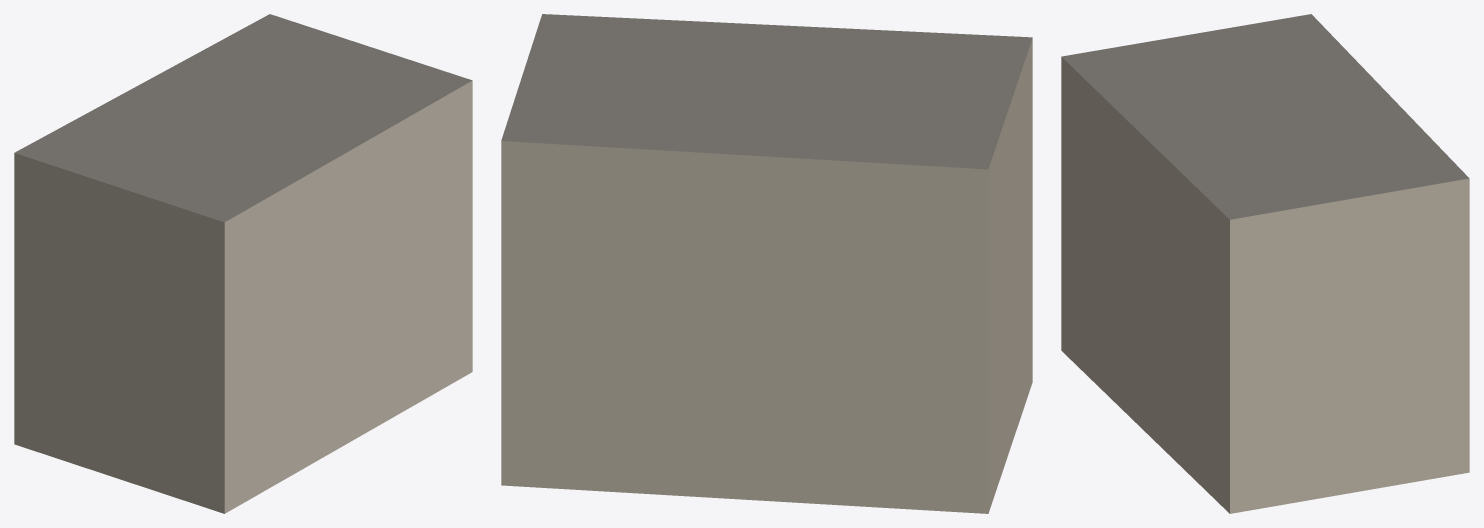
The picture shows the model from 3 angles, left to right: view 1: azimuth 30°, elevation 25°; view 2: azimuth 150°, elevation 25°; view 3: azimuth 270°, elevation 25°; orthographic projection. The views are drawn at different scales.
Parts seen in each view (by area): view 1: HP-w505633426; view 2: HP-w505633426; view 3: HP-w505633426.
Boxes of the visible parts, x1,y1,x2,y2 form: HP-w505633426: [14, 14, 472, 513]; HP-w505633426: [501, 14, 1032, 513]; HP-w505633426: [1061, 14, 1469, 513].
Size of the model in its own units: 27.01 by 18 by 22.64.
